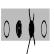correct: (16, 19, 22, 38)
not correct: (26, 7, 36, 54)
